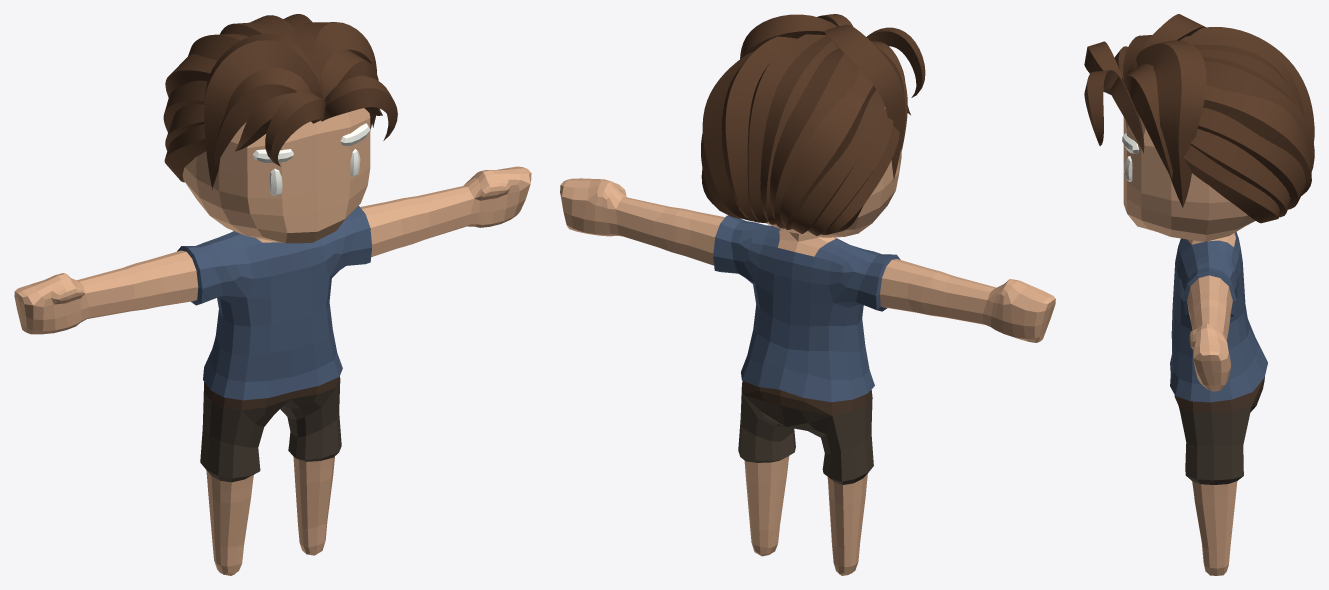
Rendered from character.fbx.
The picture shows the model from 3 angles, left to right: view 1: azimuth 30°, elevation 25°; view 2: azimuth 150°, elevation 25°; view 3: azimuth 270°, elevation 25°; orthographic projection. The views are drawn at different scales.
Parts seen in each view (by area): view 1: Body; view 2: Body; view 3: Body.
Part boxes in pixels (x1,y1,x2,y2): Body: (14, 14, 531, 575); Body: (560, 14, 1055, 575); Body: (1084, 14, 1314, 575).
Size of the model in its own units: 324 by 333 by 132.
